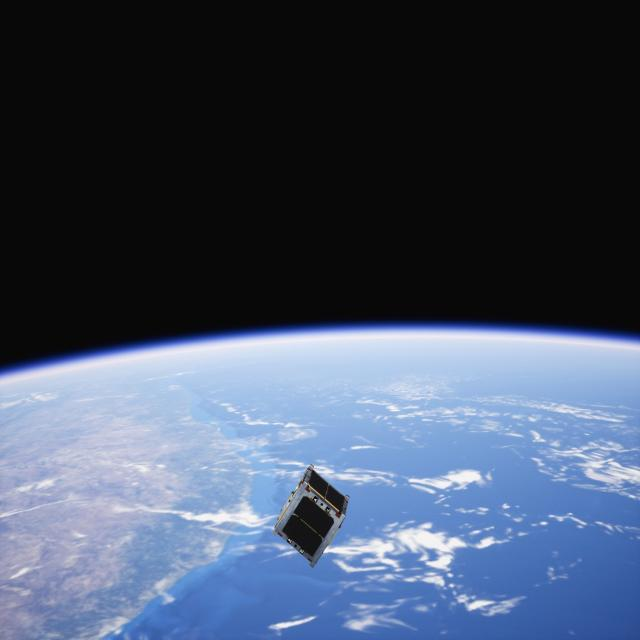medium_debris: (261, 464, 347, 564)
